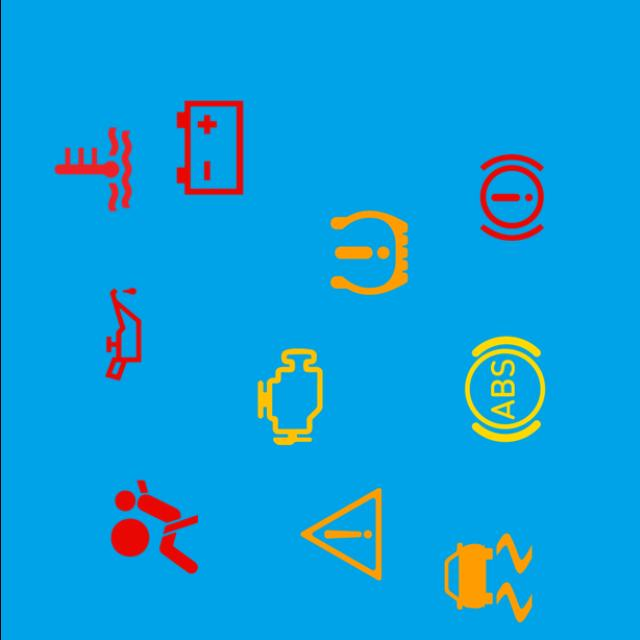Anti Lock Braking System: (446, 332, 562, 448)
Braking System Issue: (454, 140, 570, 256)
Charging System Issue: (151, 90, 267, 206)
Check Engine: (232, 338, 348, 454)
Electronic Stability Problem -ESP-: (430, 520, 546, 636)
Engine Overheating Warning Light: (34, 111, 150, 228)
Low Engine Oil Warning Light: (64, 276, 180, 392)
Low Tire Pressure Warning Light: (310, 195, 426, 311)
Master warning light: (282, 476, 398, 592)
SRS-Airbag: (96, 469, 212, 585)
